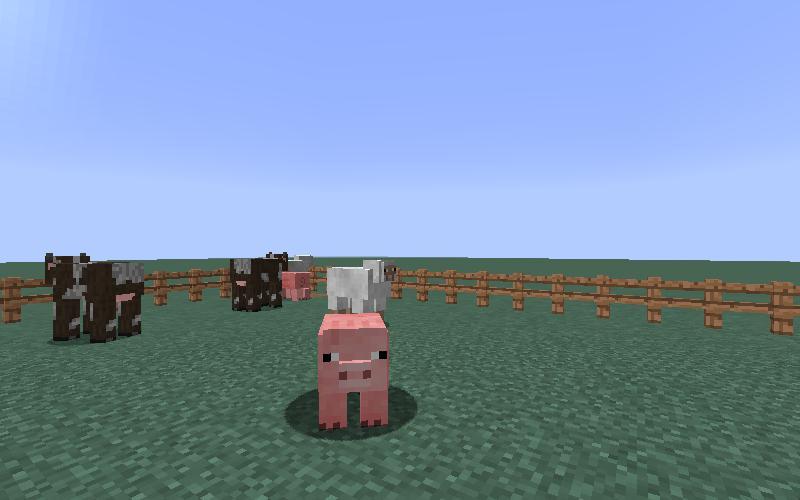cow: (38, 250, 151, 351), (223, 247, 293, 316)
pig: (312, 308, 393, 438), (282, 271, 314, 302)
sheep: (323, 251, 399, 316)
